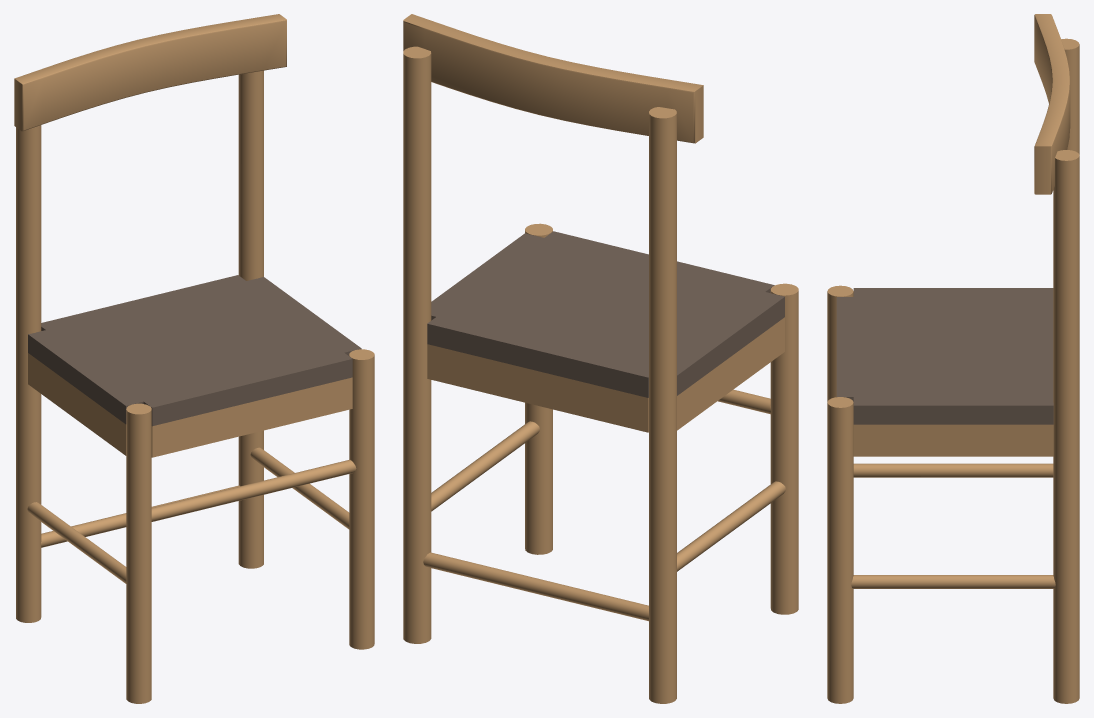
The model's file is chair.glb.
3 renders of one model, left to right at view 1: azimuth 30°, elevation 25°; view 2: azimuth 150°, elevation 25°; view 3: azimuth 270°, elevation 25°, orthographic. The views are drawn at different scales.
Parts seen in each view (by area): view 1: chair.001; view 2: chair.001; view 3: chair.001.
Part boxes in pixels (left/top/right/bottom): chair.001: left=14, top=14, right=374, bottom=703; chair.001: left=403, top=14, right=798, bottom=703; chair.001: left=827, top=14, right=1079, bottom=703.
Bounding box in the file's own units: 0.2908 × 0.577 × 0.2345.
1 material, 1 textured.
